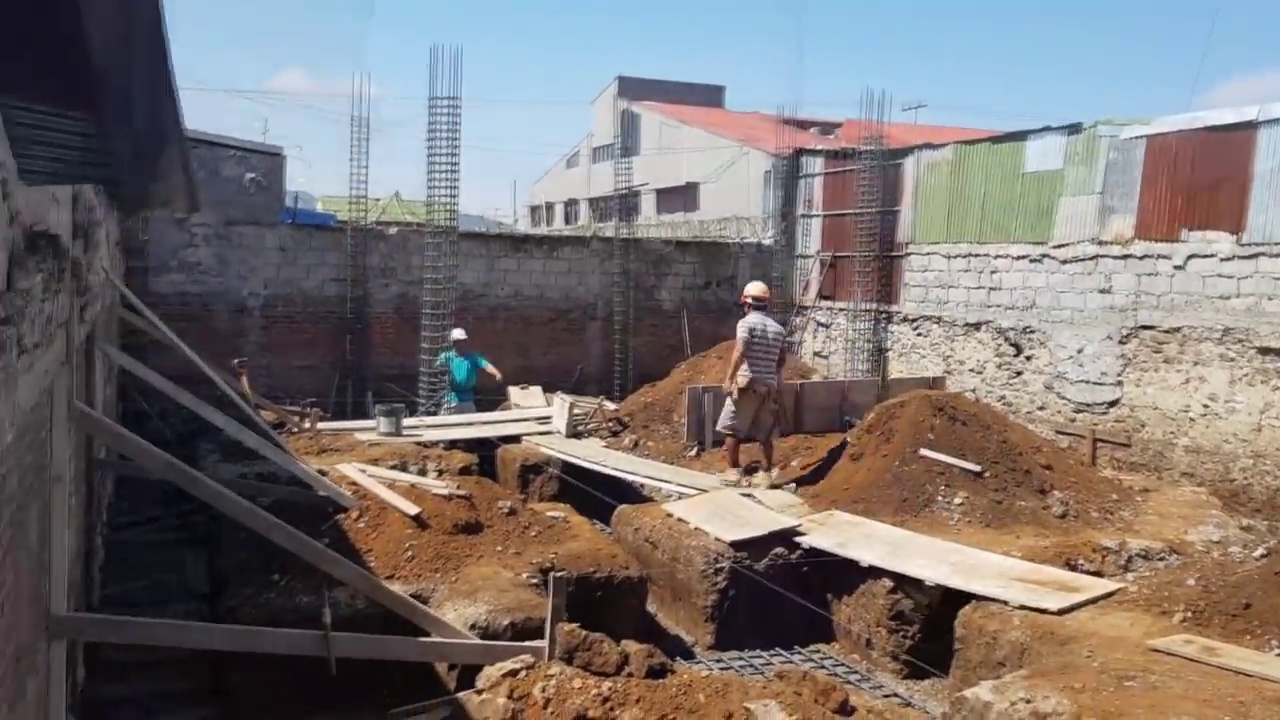helmet: (739, 279, 771, 304), (450, 326, 468, 343)
helmet-on: (739, 279, 772, 316), (450, 324, 468, 355)
person: (714, 279, 784, 486), (437, 325, 503, 417)
